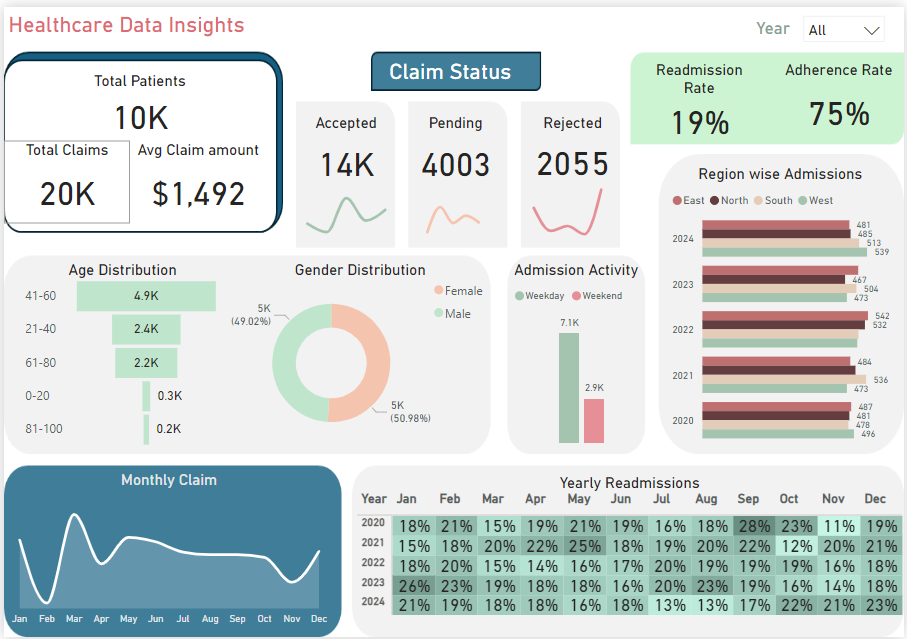

The page's visual inventory and layout, read from the dashboard file:
{"tool":"powerbi","page":{"name":"EHR Dashboard","canvas":[1000,700],"ordinal":0},"visuals":[{"type":"textbox","box":[0,0,678.3,38.3],"z":0},{"type":"card","title":"Total Patients","fields":{"Values":["Measure Table.Total Patients"]},"box":[0,72,302,76],"z":1000},{"type":"card","title":"Total Claims","fields":{"Values":["Measure Table.Total Claims"]},"box":[0,148.6,140,91.4],"z":2000},{"type":"card","title":"Avg Claim amount","fields":{"Values":["Measure Table.Avg Claim Amount"]},"box":[140,148.3,151.7,91.7],"z":3000},{"type":"card","title":"Adherence Rate","fields":{"Values":["Measure Table.Adherance Rate"]},"box":[855,60,145,85],"z":4000},{"type":"card","title":"Readmission Rate","fields":{"Values":["Measure Table.Readmission Rate"]},"box":[701.7,60,141.7,85],"z":5000},{"type":"card","title":"Accepted ","fields":{"Values":["Measure Table.Accepted Claims"]},"box":[315,118.3,130,88.3],"z":6000},{"type":"card","title":"Pending ","fields":{"Values":["Measure Table.Pending Claims"]},"box":[456.7,118.3,90,88.3],"z":7000},{"type":"card","title":"Rejected ","fields":{"Values":["Measure Table.Rejected Claims"]},"box":[581.7,118.3,100,85],"z":8000},{"type":"textbox","box":[410,51.7,171.7,40],"z":9000},{"type":"lineChart","fields":{"Y":["Measure Table.Accepted Claims"],"Category":["dbo Patients.AdmissionDate.Variation.Date Hierarchy.Year"]},"box":[321.7,195,116.7,65],"z":10000},{"type":"lineChart","fields":{"Y":["Measure Table.Pending Claims"],"Category":["dbo Patients.AdmissionDate.Variation.Date Hierarchy.Year"]},"box":[455.7,188.6,87.1,71.4],"z":11000},{"type":"lineChart","fields":{"Y":["Measure Table.Rejected Claims"],"Category":["dbo Patients.AdmissionDate.Variation.Date Hierarchy.Year"]},"box":[573.3,185,105,75],"z":12000},{"type":"clusteredColumnChart","title":"Admission Activity","fields":{"Y":["Measure Table.Weekday admissions","Measure Table.Weekend Admissions"]},"box":[561.7,281.7,160,208.3],"z":13000},{"type":"lineChart","title":"Monthly Claim ","fields":{"Y":["Measure Table.Total Claim Amount"],"Category":["dbo Patients.Month Name"]},"box":[0,515,366.7,173.3],"z":14000},{"type":"donutChart","title":"Gender Distribution","fields":{"Y":["Measure Table.Total Patients"],"Category":["dbo Patients.Gender"]},"box":[245,281.7,301.7,208.3],"z":15000},{"type":"funnel","title":"Age Distribution","fields":{"Category":["dbo Patients.Age bins"],"Y":["Measure Table.Total Patients"]},"box":[18.3,281.7,226.7,208.3],"z":16000},{"type":"slicer","fields":{"Values":["dbo Patients.AdmissionDate.Variation.Date Hierarchy.Year"]},"box":[878.3,0,110,38.3],"z":17000},{"type":"clusteredBarChart","title":"Region wise Admissions","fields":{"Category":["dbo Patients.AdmissionDate.Variation.Date Hierarchy.Year"],"Series":["dbo Patients.Region"],"Y":["Measure Table.Total Patients"]},"box":[736.7,175,251.7,315],"z":17001},{"type":"pivotTable","title":"Yearly Readmissions ","fields":{"Columns":["dbo Patients.Month Name"],"Values":["Measure Table.Readmission Rate"],"Rows":["dbo Patients.AdmissionDate.Variation.Date Hierarchy.Year"]},"box":[390,518,610,182],"z":17002},{"type":"textbox","box":[798.3,7,80,32],"z":17003}]}

Visuals, with their boxes in screenshot pixels (x1, y1, x2, y2), scaled from the page's 1000x700 canvas onto the 907x639 screenshot:
textbox: {"x1": 0, "y1": 0, "x2": 615, "y2": 35}
"Total Patients" card: {"x1": 0, "y1": 66, "x2": 274, "y2": 135}
"Total Claims" card: {"x1": 0, "y1": 136, "x2": 127, "y2": 219}
"Avg Claim amount" card: {"x1": 127, "y1": 135, "x2": 265, "y2": 219}
"Adherence Rate" card: {"x1": 775, "y1": 55, "x2": 906, "y2": 132}
"Readmission Rate" card: {"x1": 636, "y1": 55, "x2": 765, "y2": 132}
"Accepted " card: {"x1": 286, "y1": 108, "x2": 404, "y2": 189}
"Pending " card: {"x1": 414, "y1": 108, "x2": 496, "y2": 189}
"Rejected " card: {"x1": 528, "y1": 108, "x2": 618, "y2": 186}
textbox: {"x1": 372, "y1": 47, "x2": 528, "y2": 84}
lineChart - Measure Table.Accepted Claims x dbo Patients.AdmissionDate.Variation.Date Hierarchy.Year: {"x1": 292, "y1": 178, "x2": 398, "y2": 237}
lineChart - Measure Table.Pending Claims x dbo Patients.AdmissionDate.Variation.Date Hierarchy.Year: {"x1": 413, "y1": 172, "x2": 492, "y2": 237}
lineChart - Measure Table.Rejected Claims x dbo Patients.AdmissionDate.Variation.Date Hierarchy.Year: {"x1": 520, "y1": 169, "x2": 615, "y2": 237}
"Admission Activity" clusteredColumnChart: {"x1": 509, "y1": 257, "x2": 655, "y2": 447}
"Monthly Claim " lineChart: {"x1": 0, "y1": 470, "x2": 333, "y2": 628}
"Gender Distribution" donutChart: {"x1": 222, "y1": 257, "x2": 496, "y2": 447}
"Age Distribution" funnel: {"x1": 17, "y1": 257, "x2": 222, "y2": 447}
slicer - dbo Patients.AdmissionDate.Variation.Date Hierarchy.Year: {"x1": 797, "y1": 0, "x2": 896, "y2": 35}
"Region wise Admissions" clusteredBarChart: {"x1": 668, "y1": 160, "x2": 896, "y2": 447}
"Yearly Readmissions " pivotTable: {"x1": 354, "y1": 473, "x2": 906, "y2": 638}
textbox: {"x1": 724, "y1": 6, "x2": 797, "y2": 36}
